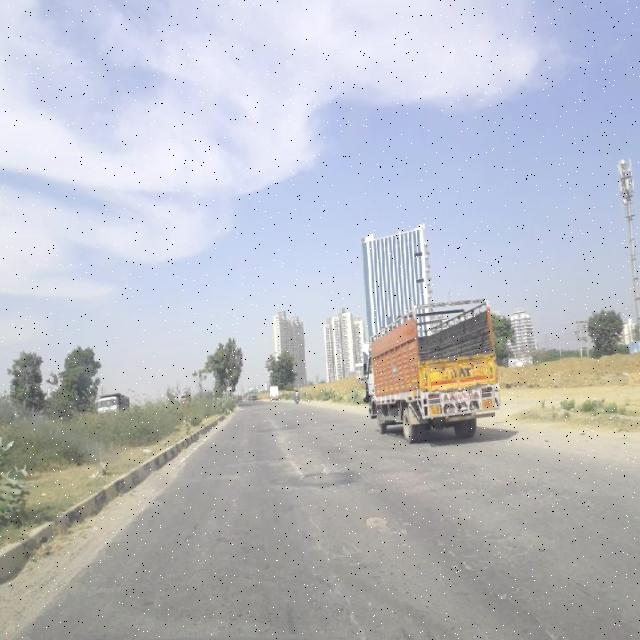D00: (308, 511, 364, 635), (274, 418, 313, 498)
D40: (362, 511, 396, 533), (314, 456, 348, 478)
